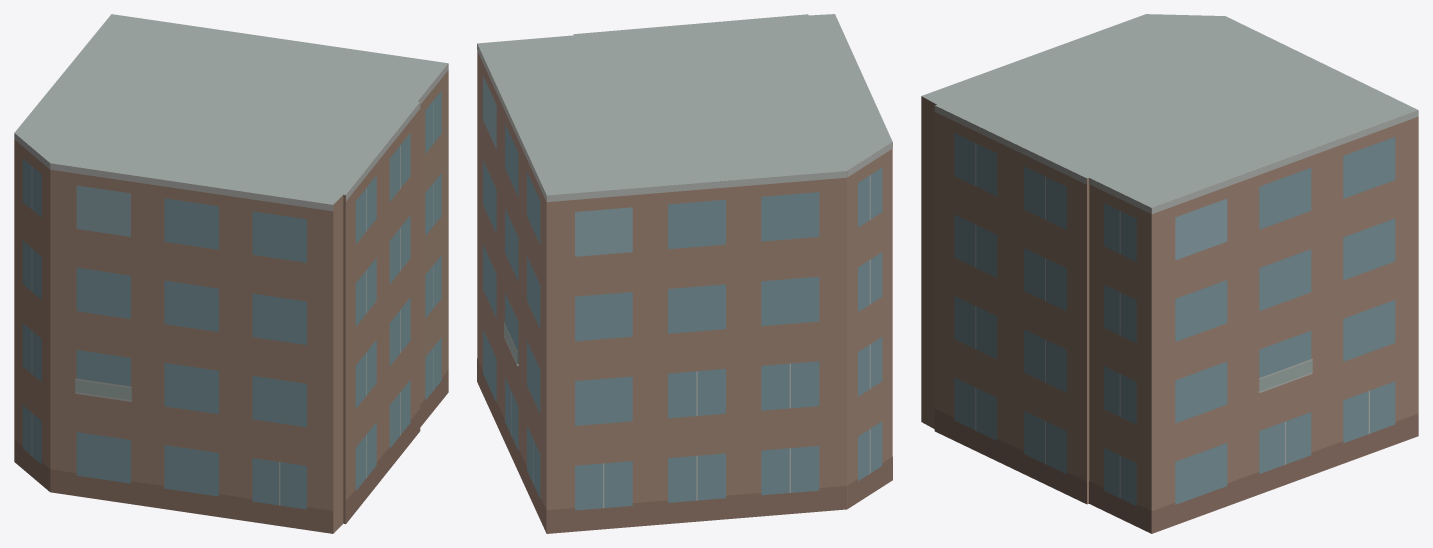
Rendered from survey-upis-32955379.glb.
3 views of the same model, side by side, from view 1: azimuth 30°, elevation 25°; view 2: azimuth 150°, elevation 25°; view 3: azimuth 270°, elevation 25° (orthographic). The views are drawn at different scales.
Parts seen in each view (by area): view 1: survey-upis-32955379.tmp; view 2: survey-upis-32955379.tmp; view 3: survey-upis-32955379.tmp.
Boxes of the visible parts, x1,y1,x2,y2 form: survey-upis-32955379.tmp: [14, 14, 448, 533]; survey-upis-32955379.tmp: [477, 14, 892, 533]; survey-upis-32955379.tmp: [921, 14, 1418, 533].
Bounding box in the file's own units: 15.96 × 12.5 × 17.3.
